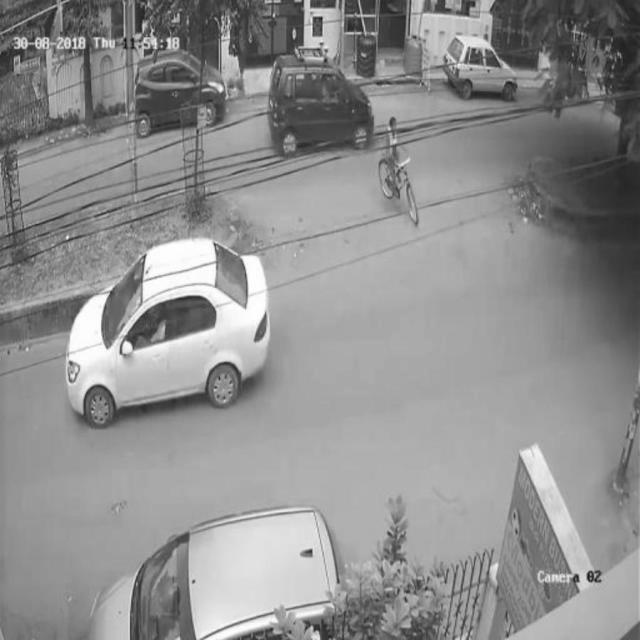vehicle: (67, 235, 271, 422), (95, 498, 343, 640), (268, 41, 372, 152), (133, 55, 225, 138), (379, 113, 423, 229), (447, 31, 519, 99)
